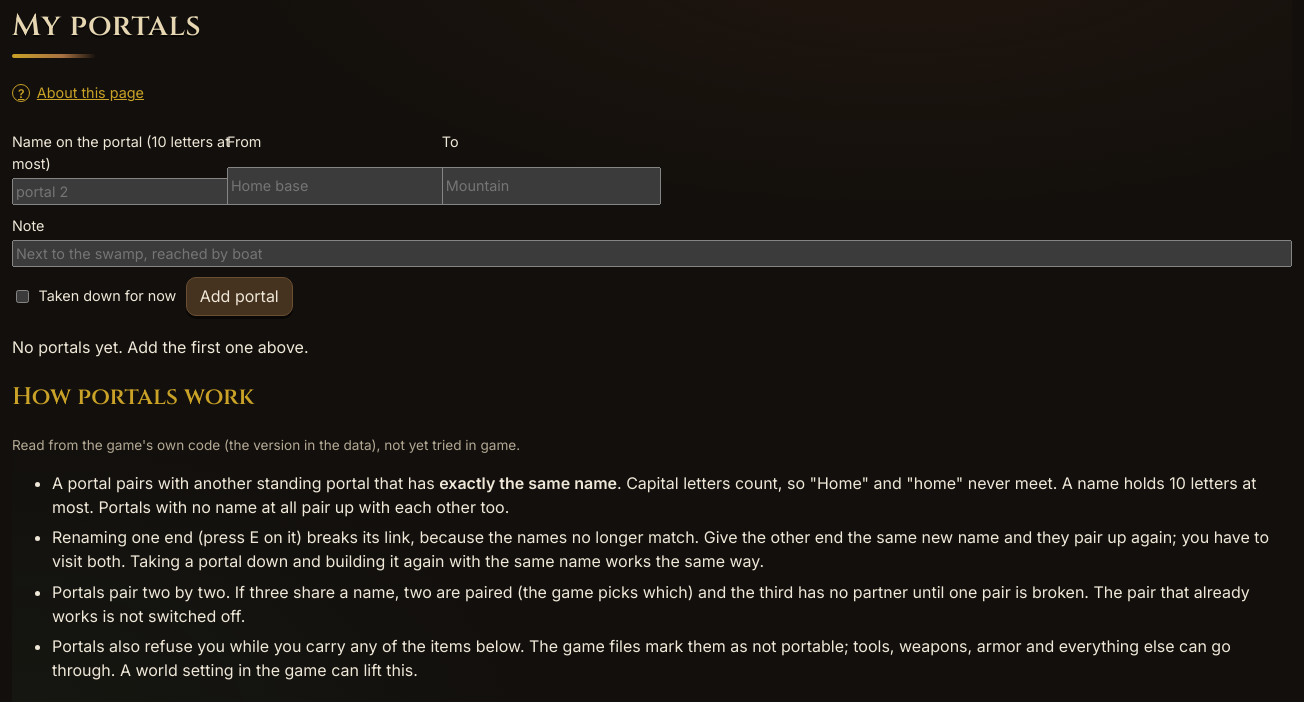
Test: PortalsPage › saves a portal to the active profile and lists items that cannot be ported
The width and height of the screenshot is (1304, 702).
In the field labelled "Name on the portal (10 letters at most)": x=122, y=191 [12, 178, 231, 205], type "boat"
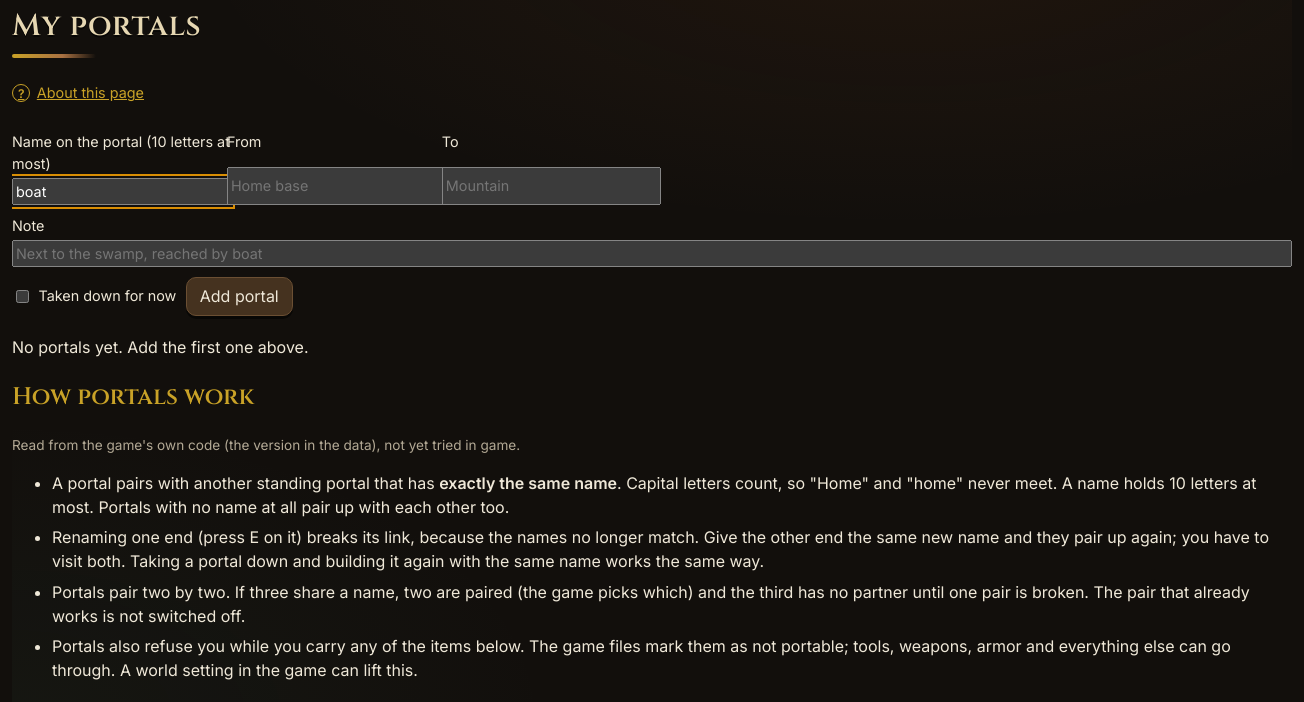
In the field labelled "To": x=551, y=186 [442, 167, 661, 205], type "Island base"
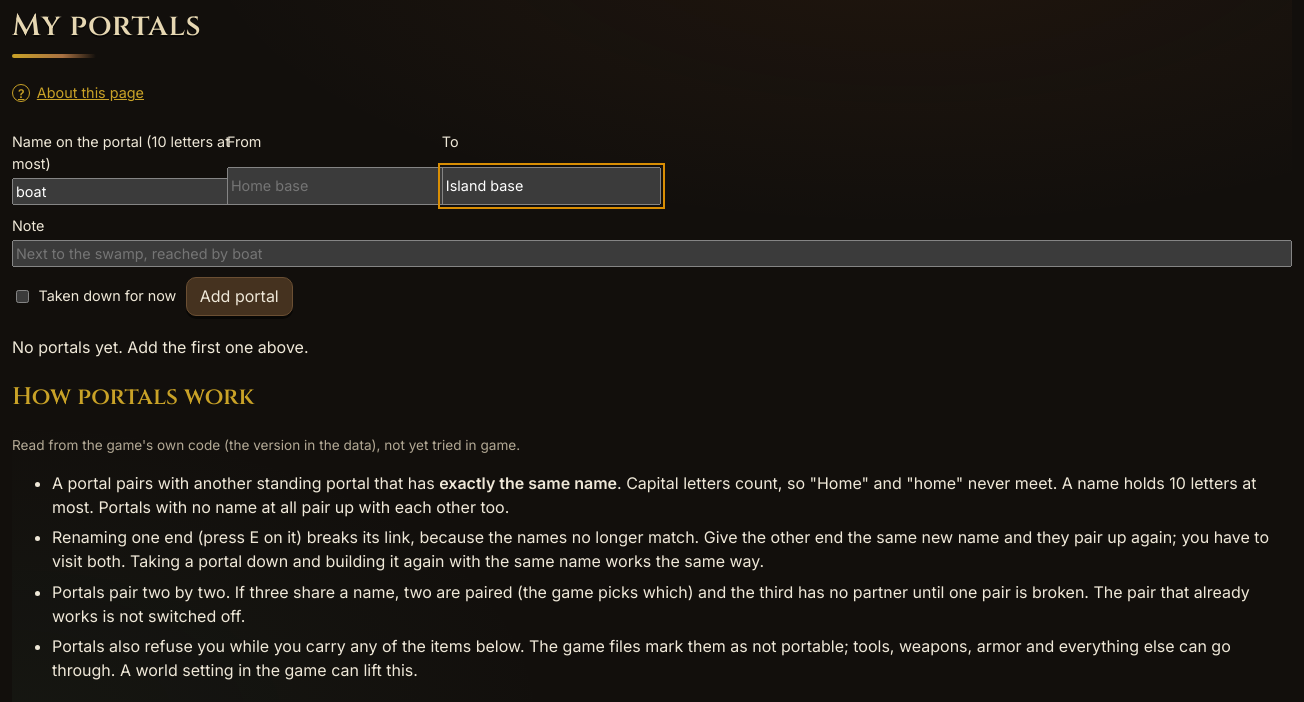
Click the button "Add portal": x=239, y=296 [186, 277, 293, 316]
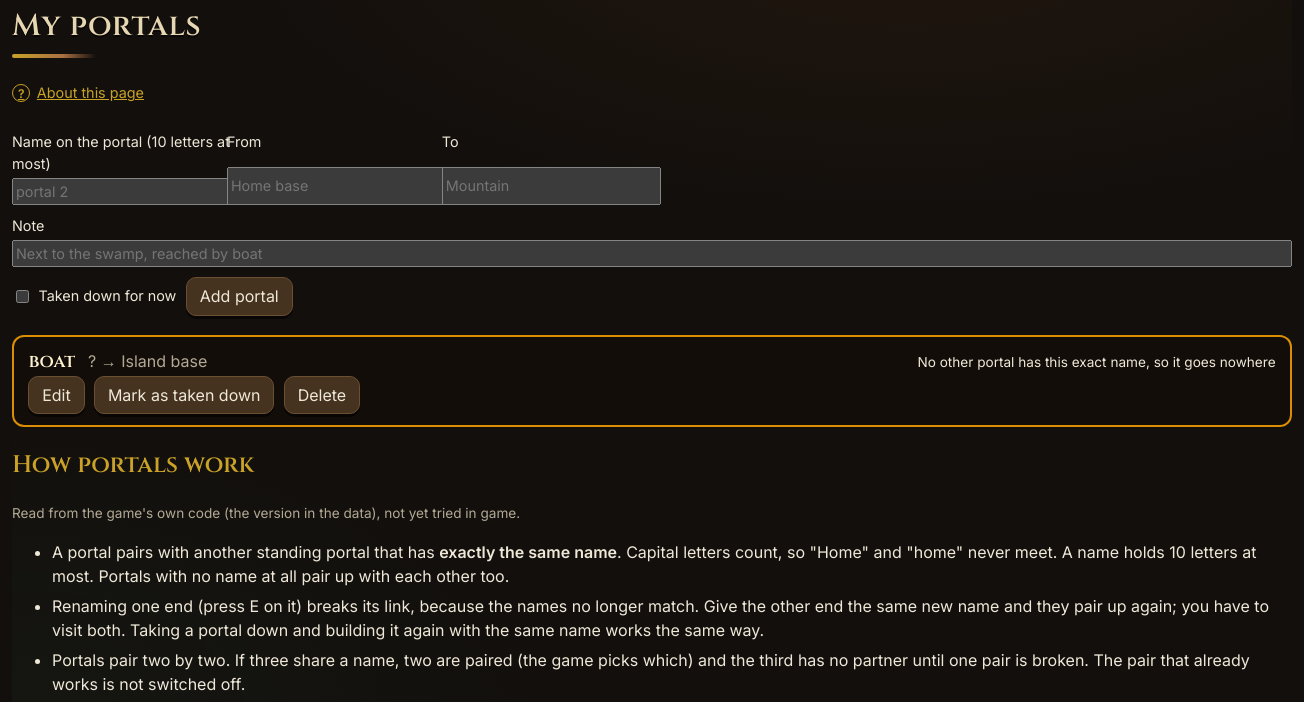
Check: the text "No other portal has this exact name, so it goes nowhere" is shown, box [918, 352, 1276, 372]
